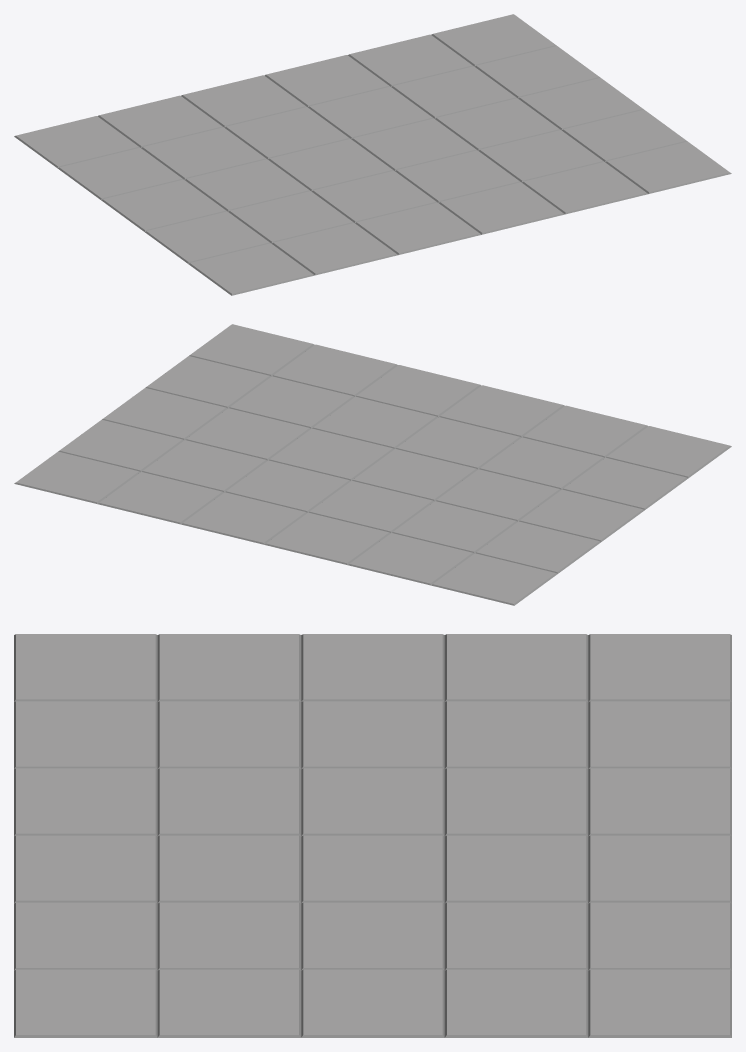
File: Tile.FBX
3 renders of one model, top to bottom at view 1: azimuth 30°, elevation 25°; view 2: azimuth 150°, elevation 25°; view 3: azimuth 270°, elevation 25°, orthographic. The views are drawn at different scales.
Visible parts, largest first — view 1: Tile; view 2: Tile; view 3: Tile.
Boxes of the visible parts, box(x1,y1,x2,y2) form: Tile: box(14, 14, 731, 295); Tile: box(14, 324, 731, 605); Tile: box(14, 634, 731, 1037).
Size of the model in its own units: 90.81 by 0.1997 by 68.42.
